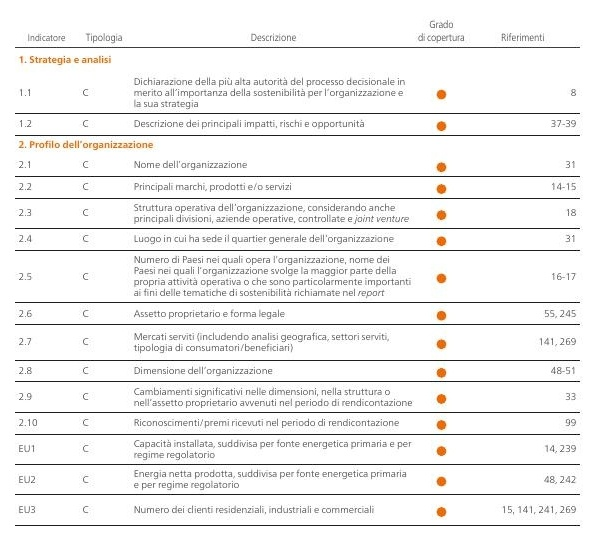table: (0, 0, 603, 545)
